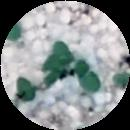Basil: (70, 63, 97, 92), (50, 40, 76, 68), (16, 79, 32, 107)
